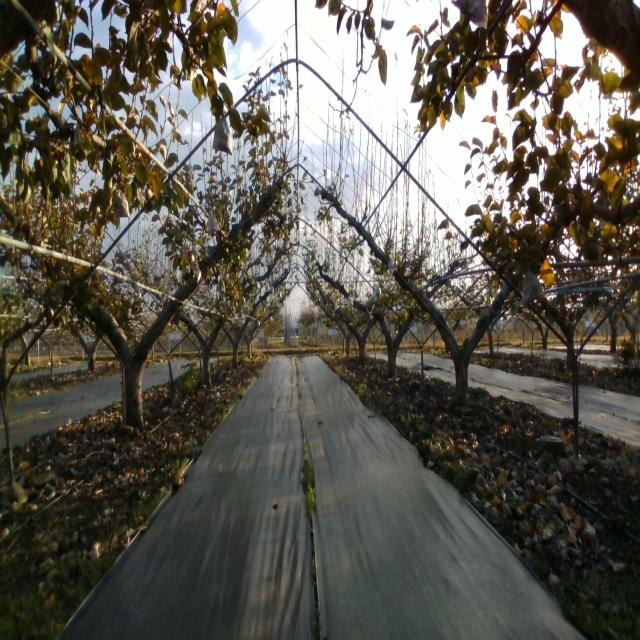pearbags: (522, 270, 545, 308), (212, 116, 232, 156), (112, 188, 130, 219), (208, 207, 222, 236)
